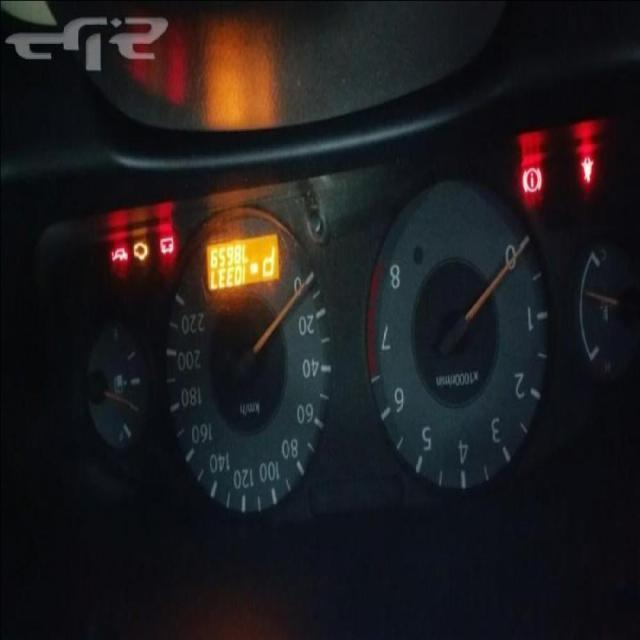Seat Belt: (581, 155, 593, 183)
